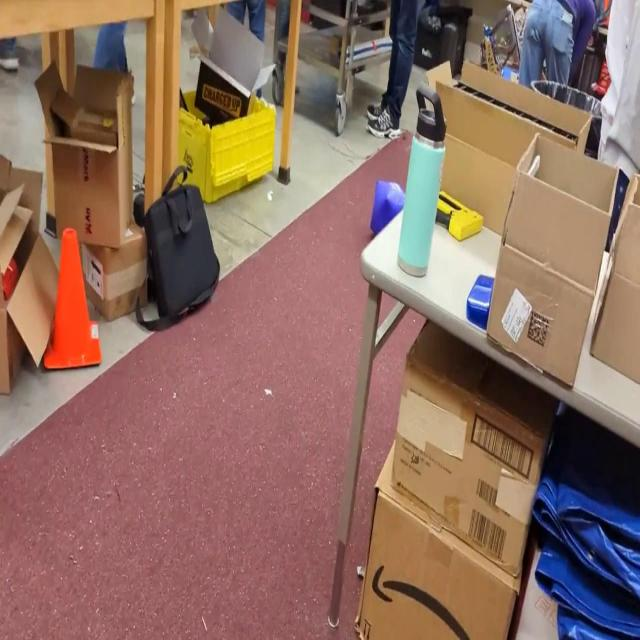frc_cube: (368, 180, 412, 250)
